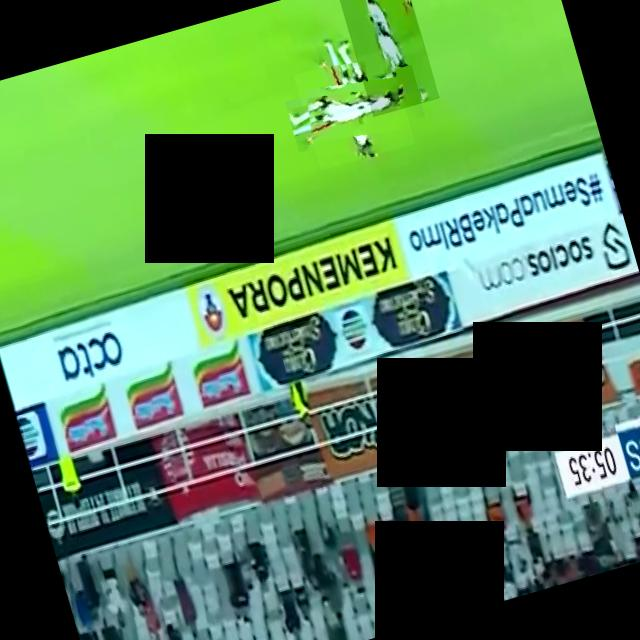soccer-player: (292, 47, 413, 169), (334, 0, 438, 116)
